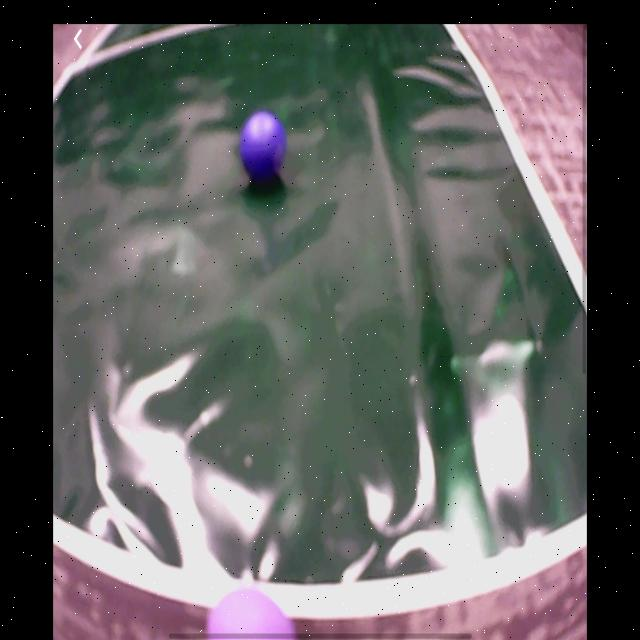ball: (206, 587, 296, 640), (242, 112, 288, 185)
